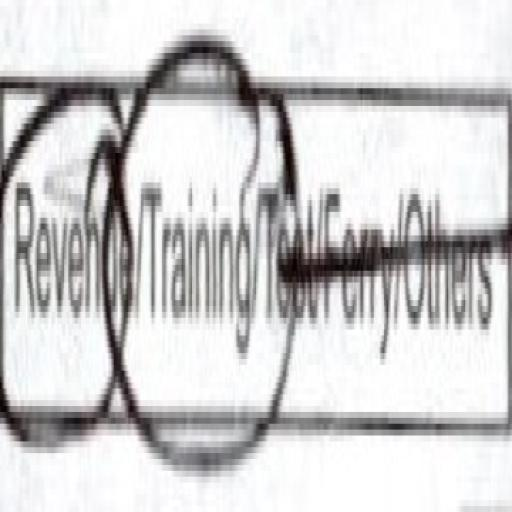check: (0, 12, 136, 512), (144, 4, 262, 508)
